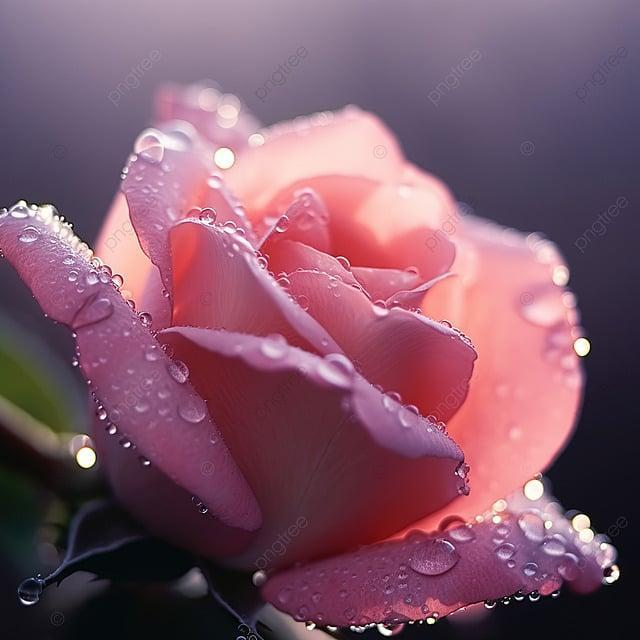raindrop: (396, 524, 476, 590), (310, 344, 370, 404), (58, 284, 124, 333), (132, 119, 178, 173), (513, 506, 560, 554), (255, 324, 298, 367)
